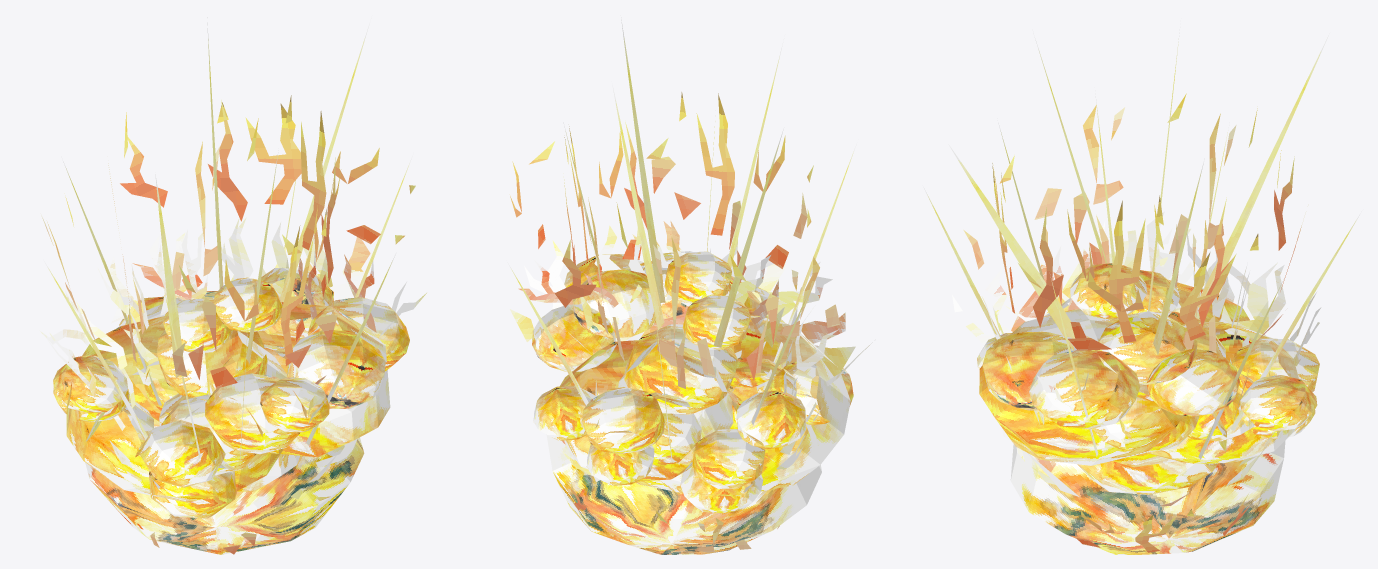
File: explosion.glb
The picture shows the model from 3 angles, left to right: view 1: azimuth 30°, elevation 25°; view 2: azimuth 150°, elevation 25°; view 3: azimuth 270°, elevation 25°; orthographic projection. The views are drawn at different scales.
Visible parts, largest first — view 1: MSAM_Explosion_1_KivikausiMajaMat; view 2: MSAM_Explosion_1_KivikausiMajaMat; view 3: MSAM_Explosion_1_KivikausiMajaMat.
Part boxes in pixels (box(x1,y1,x2,y2)): MSAM_Explosion_1_KivikausiMajaMat: box(39, 17, 426, 554); MSAM_Explosion_1_KivikausiMajaMat: box(507, 17, 875, 554); MSAM_Explosion_1_KivikausiMajaMat: box(923, 27, 1361, 554).
Bounding box in the file's own units: 6.05 × 7.48 × 6.04.
Materials: 1 (1 with a texture image).
